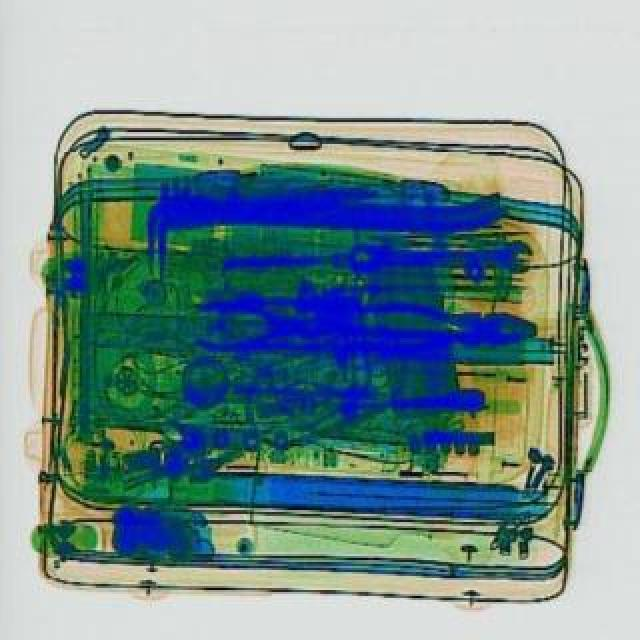scissors: (348, 236, 532, 268)
wrench: (336, 296, 536, 352), (190, 294, 330, 350)
